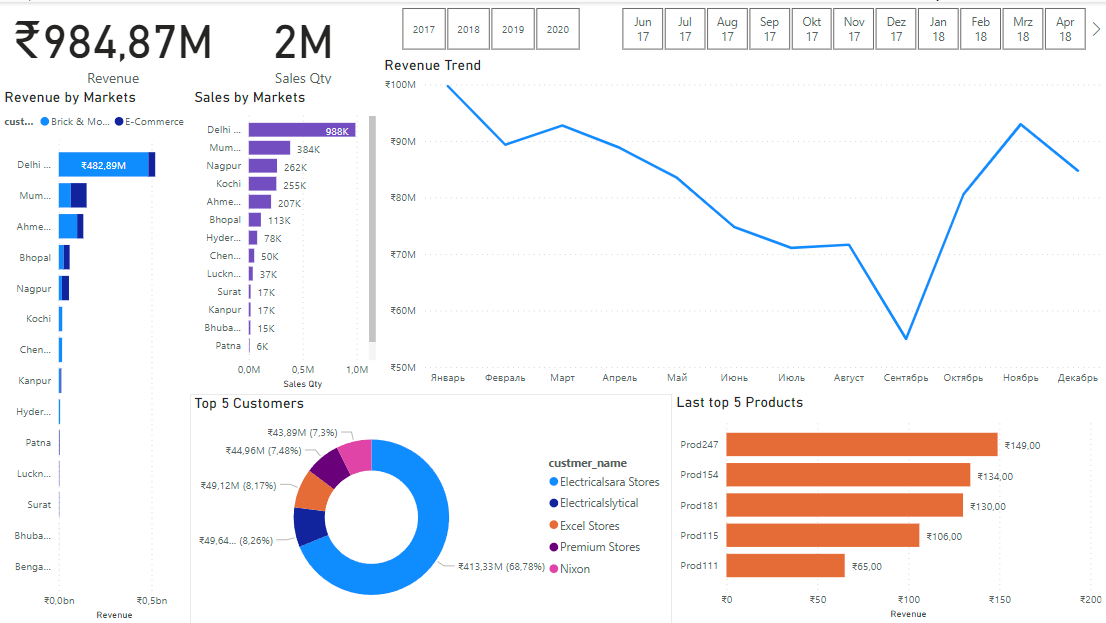

The page's visual inventory and layout, read from the dashboard file:
{"tool":"powerbi","page":{"name":"Sales","canvas":[1280,720],"ordinal":0},"visuals":[{"type":"slicer","fields":{"Values":["sales date.year"]},"box":[439.8,0,254.6,62.5],"z":0},{"type":"slicer","fields":{"Values":["sales date.cy_date"]},"box":[694.4,0,585.6,62.5],"z":1000},{"type":"card","fields":{"Values":["Base Measures.Revenue"]},"box":[0,0,261.6,99.5],"z":2000},{"type":"card","fields":{"Values":["Base Measures.Sales Qty"]},"box":[261.6,0,178.2,99.5],"z":3000},{"type":"barChart","title":"Revenue by Markets","fields":{"Category":["sales markets.markets_name"],"Y":["Base Measures.Revenue"],"Series":["sales customers.customer_type"]},"box":[0,99.5,219.9,620.3],"z":4000},{"type":"barChart","title":"Sales by Markets","fields":{"Category":["sales markets.markets_name"],"Y":["Base Measures.Sales Qty"]},"box":[219.9,99.5,219.9,353],"z":5000},{"type":"lineChart","title":"Revenue Trend","fields":{"Category":["sales markets.markets_code","sales date.cy_date.Изменение.Иерархия дат.Год","sales date.cy_date.Изменение.Иерархия дат.Квартал","sales date.cy_date.Изменение.Иерархия дат.Месяц","sales date.cy_date.Изменение.Иерархия дат.День"],"Y":["Base Measures.Revenue"]},"box":[439.8,62.5,840.2,390],"z":6000},{"type":"donutChart","title":"Top 5 Customers","fields":{"Category":["sales customers.custmer_name"],"Y":["Base Measures.Revenue"]},"box":[219.9,453.7,557.8,266.2],"z":7000},{"type":"barChart","title":"Last top 5 Products","fields":{"Category":["sales products.product_code"],"Y":["Base Measures.Revenue"]},"box":[777.7,452.5,502.3,266.2],"z":8000}]}

Visuals, with their boxes in screenshot pixels (x1, y1, x2, y2), scaled from the page's 1280x720 canvas onto the 1106x623 screenshot:
slicer - sales date.year: 380 0 600 54
slicer - sales date.cy_date: 600 0 1105 54
card - Base Measures.Revenue: 0 0 226 86
card - Base Measures.Sales Qty: 226 0 380 86
"Revenue by Markets" barChart: 0 86 190 622
"Sales by Markets" barChart: 190 86 380 392
"Revenue Trend" lineChart: 380 54 1105 392
"Top 5 Customers" donutChart: 190 393 672 622
"Last top 5 Products" barChart: 672 392 1105 622
